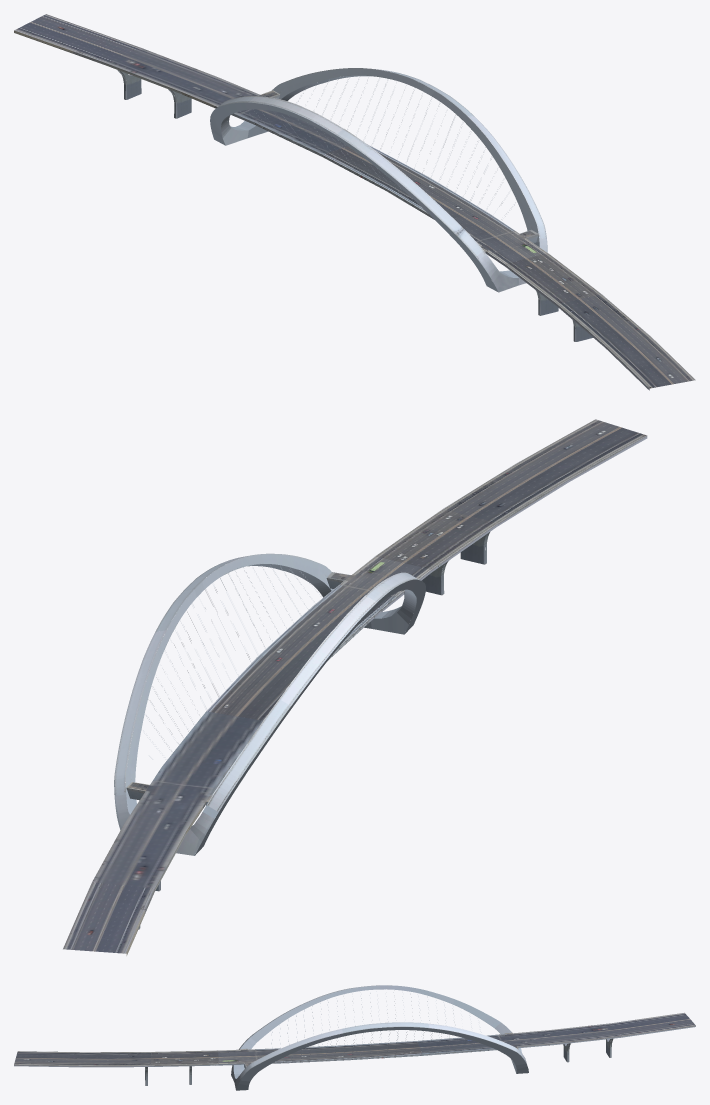
The model's file is 南宁大桥-opt.glb.
3 renders of one model, top to bottom at view 1: azimuth 30°, elevation 25°; view 2: azimuth 150°, elevation 25°; view 3: azimuth 270°, elevation 25°, orthographic. The views are drawn at different scales.
Visible parts, largest first — view 1: 南宁大桥; view 2: 南宁大桥; view 3: 南宁大桥.
Boxes of the visible parts, bbox=[...] form: 南宁大桥: bbox=[14, 14, 695, 390]; 南宁大桥: bbox=[63, 419, 647, 955]; 南宁大桥: bbox=[14, 985, 695, 1090].
Bounding box in the file's own units: 3.86 × 2.11 × 18.23.
Materials: 123 (122 with a texture image).
